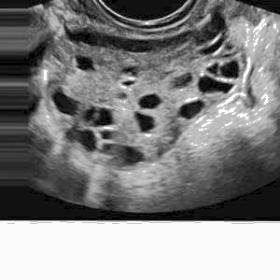PCOS: (196, 74, 233, 97), (52, 88, 80, 118), (66, 127, 96, 154), (133, 108, 157, 138), (176, 98, 205, 122), (216, 58, 242, 82), (72, 52, 97, 75), (121, 143, 144, 168), (138, 91, 164, 113), (95, 103, 114, 130), (170, 71, 196, 90), (119, 65, 144, 78), (82, 101, 96, 123), (207, 60, 220, 78), (100, 129, 116, 141), (120, 78, 139, 88)
